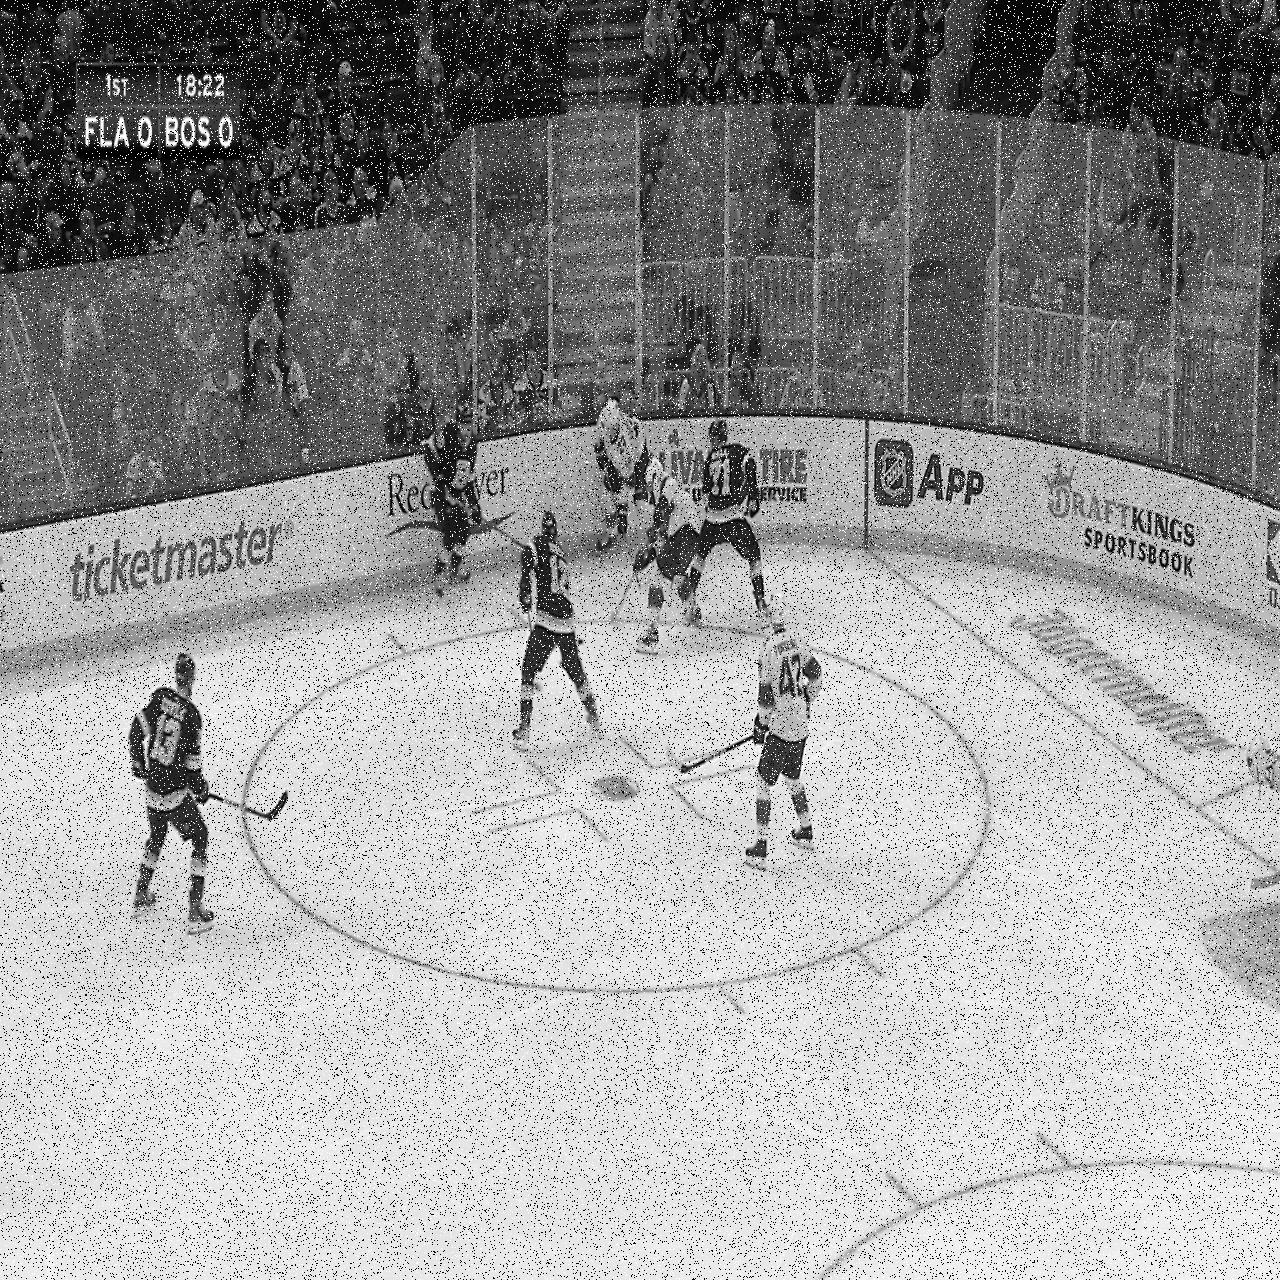Ad: (1010, 597, 1237, 770), (1039, 454, 1200, 591), (69, 513, 297, 605), (386, 455, 519, 542), (872, 436, 986, 525)
